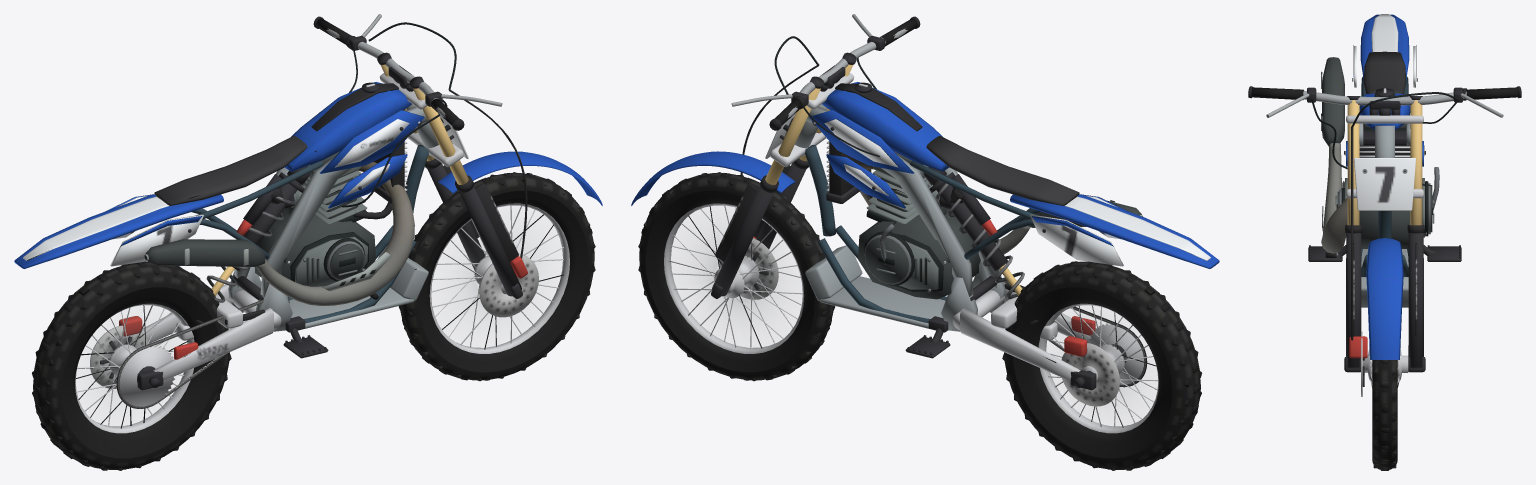
Rendered from bike-rookie.glb.
The picture shows the model from 3 angles, left to right: view 1: azimuth 30°, elevation 25°; view 2: azimuth 150°, elevation 25°; view 3: azimuth 270°, elevation 25°; orthographic projection. The views are drawn at different scales.
Parts seen in each view (by area): view 1: wheel_rear, bodywork, wheel_front, frame, exhaust, engine, fork_lower, swingarm, handlebar, fork_upper, sprocket_rear, shock_body (+7 smaller); view 2: wheel_rear, bodywork, wheel_front, frame, engine, fork_lower, swingarm, handlebar, wheel_front_blur, fork_upper, wheel_front_spokes, shock_body (+6 smaller); view 3: fork_lower, fork_upper, bodywork, handlebar, exhaust, wheel_front, frame, engine, pegs, brake_hose.
Part boxes in pixels (left/top/right/bottom): wheel_rear: left=32, top=261, right=231, bottom=470; bodywork: left=14, top=82, right=424, bottom=268; wheel_front: left=398, top=172, right=595, bottom=381; frame: left=191, top=104, right=438, bottom=332; exhaust: left=144, top=161, right=414, bottom=305; engine: left=255, top=150, right=378, bottom=299; fork_lower: left=425, top=151, right=602, bottom=298; swingarm: left=119, top=281, right=281, bottom=390; handlebar: left=313, top=14, right=502, bottom=207; fork_upper: left=377, top=52, right=468, bottom=184; sprocket_rear: left=119, top=345, right=174, bottom=406; shock_body: left=232, top=167, right=310, bottom=271; wheel_rear: left=1002, top=261, right=1201, bottom=470; bodywork: left=809, top=82, right=1219, bottom=268; wheel_front: left=638, top=172, right=835, bottom=381; frame: left=795, top=104, right=1042, bottom=332; engine: left=858, top=151, right=980, bottom=299; fork_lower: left=631, top=151, right=808, bottom=298; swingarm: left=952, top=282, right=1096, bottom=390; handlebar: left=731, top=14, right=922, bottom=235; wheel_front_blur: left=695, top=232, right=777, bottom=321; fork_upper: left=765, top=52, right=856, bottom=184; wheel_front_spokes: left=668, top=205, right=802, bottom=348; shock_body: left=923, top=167, right=1007, bottom=271; fork_lower: left=1344, top=225, right=1425, bottom=372; fork_upper: left=1346, top=96, right=1423, bottom=225; bodywork: left=1344, top=14, right=1425, bottom=166; handlebar: left=1248, top=86, right=1521, bottom=185; exhaust: left=1321, top=57, right=1360, bottom=253; wheel_front: left=1361, top=331, right=1408, bottom=470; frame: left=1359, top=77, right=1410, bottom=307; engine: left=1325, top=123, right=1439, bottom=257; pegs: left=1308, top=245, right=1461, bottom=261; brake_hose: left=1351, top=127, right=1353, bottom=340.
Size of the model in its own units: 2.06 by 1.2 by 0.875.
Materials: 4 (4 with a texture image).
